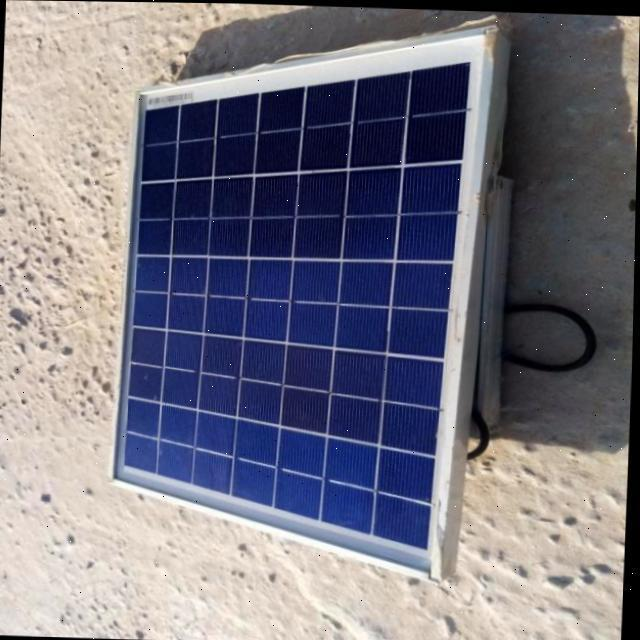Normal Solar Panel: (108, 18, 489, 578)
